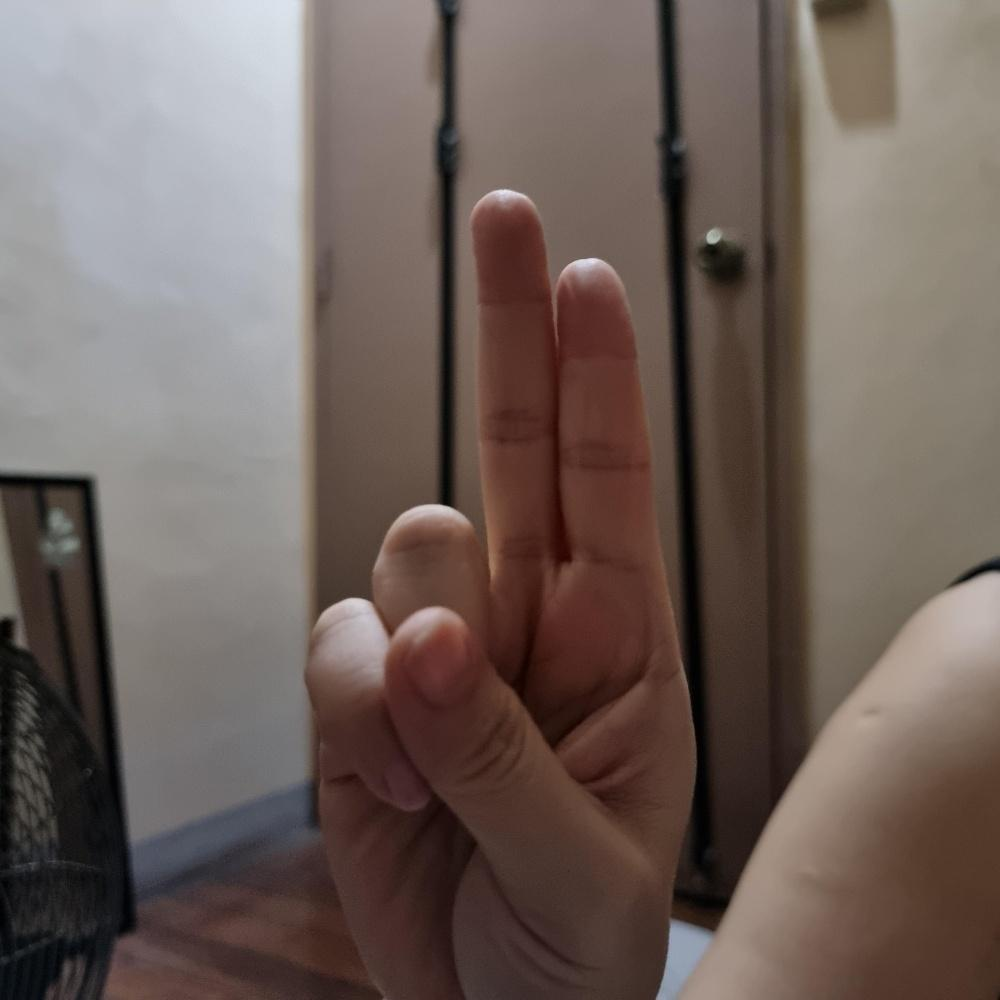u: (305, 181, 704, 999)
